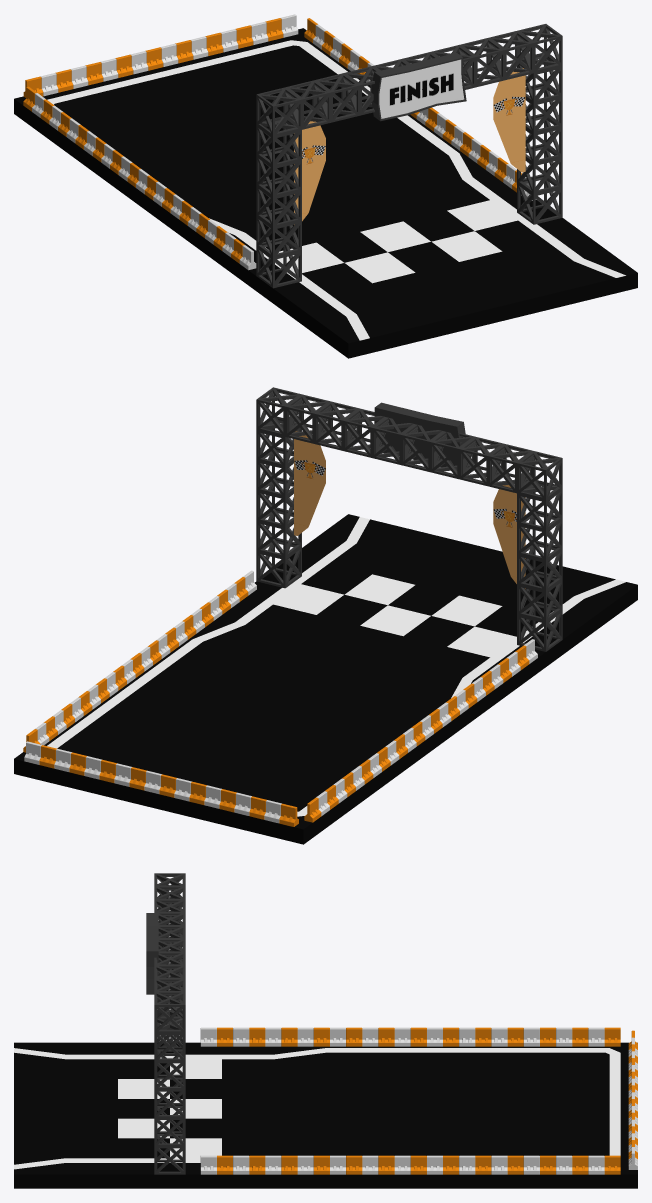
File: finish_export.fbx
The picture shows the model from 3 angles, top to bottom: view 1: azimuth 30°, elevation 25°; view 2: azimuth 150°, elevation 25°; view 3: azimuth 270°, elevation 25°; orthographic projection. The views are drawn at different scales.
Visible parts, largest first — view 1: Cube, Cube.003, Cube.001, Cube.002, Cube.005, Cube.006, Cube.004, Cylinder; view 2: Cube.003, Cube, Cube.002, Cube.001, Cube.005, Cube.006, Cylinder, Cube.004; view 3: Cube, Cube.003, Cube.005, Cube.002, Cube.001, Cube.006, Cube.004.
Boxes of the visible parts, box(x1,y1,x2,y2) form: Cube: box(181, 152, 637, 358); Cube.003: box(14, 28, 461, 235); Cube.001: box(256, 56, 562, 288); Cube.002: box(256, 24, 562, 136); Cube.005: box(23, 18, 536, 270); Cube.006: box(23, 14, 298, 97); Cube.004: box(371, 52, 466, 121); Cylinder: box(294, 68, 525, 224); Cube.003: box(14, 638, 470, 844); Cube: box(190, 514, 637, 721); Cube.002: box(256, 387, 562, 500); Cube.001: box(256, 420, 562, 651); Cube.005: box(23, 570, 537, 822); Cube.006: box(24, 741, 298, 826); Cylinder: box(294, 431, 525, 588); Cube.004: box(374, 402, 466, 470); Cube: box(14, 1042, 325, 1188); Cube.003: box(326, 1042, 637, 1188); Cube.005: box(200, 1027, 620, 1174); Cube.002: box(154, 873, 185, 1033); Cube.001: box(154, 904, 185, 1174); Cube.006: box(628, 1030, 637, 1169); Cube.004: box(146, 913, 158, 994).
Bounding box in the file's own units: 2000 × 1351 × 4000.
Materials: 7 (2 with a texture image).
